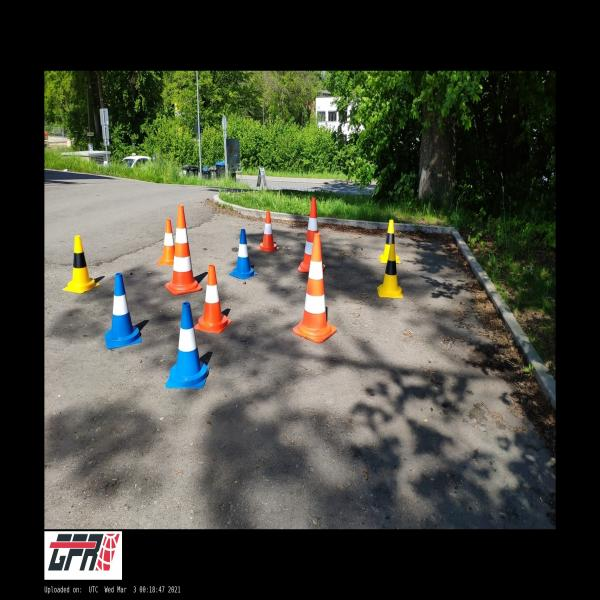blue_cone: (166, 302, 210, 388), (104, 274, 142, 350), (229, 230, 257, 280)
large_orange_cone: (293, 233, 336, 343), (165, 204, 202, 294), (298, 198, 325, 273)
orange_cone: (194, 265, 232, 333), (257, 212, 280, 252), (156, 219, 174, 265)
yellow_cone: (63, 236, 100, 293), (377, 244, 403, 298), (379, 220, 400, 263)
